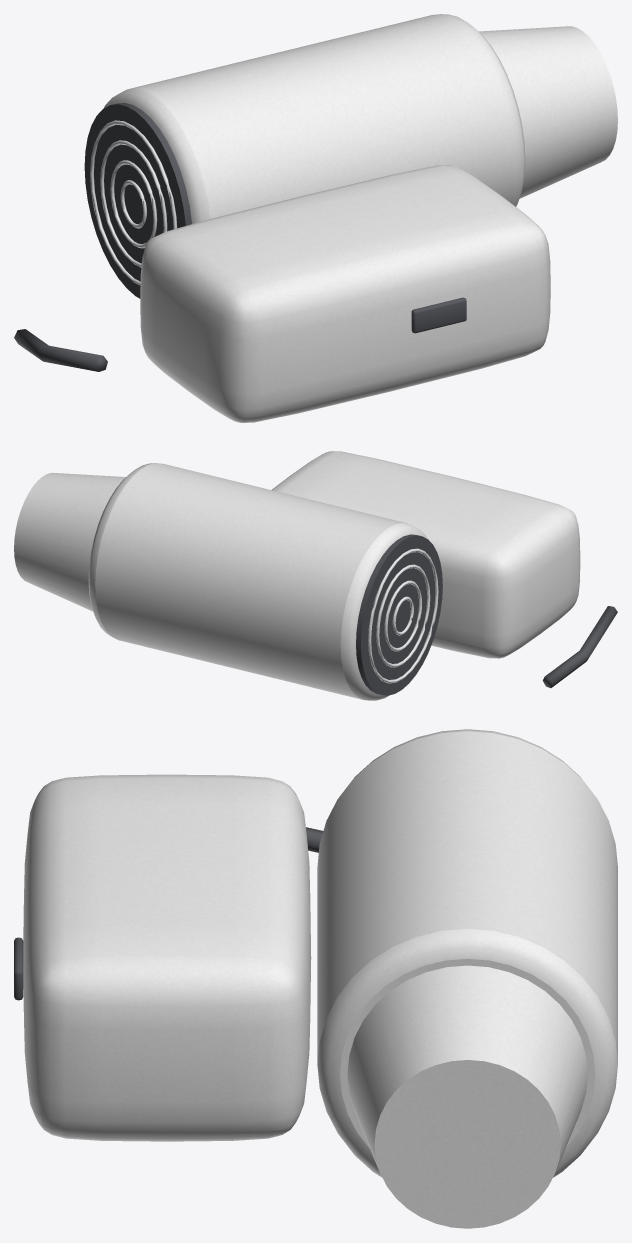
Rendered from hair_dryer.glb.
3 renders of one model, top to bottom at view 1: azimuth 30°, elevation 25°; view 2: azimuth 150°, elevation 25°; view 3: azimuth 270°, elevation 25°, orthographic. The views are drawn at different scales.
Parts seen in each view (by area): view 1: dryer_handle, dryer_barrel, dryer_nozzle, dryer_vent, dryer_cord, dryer_switch, dryer_grille3, dryer_grille2, dryer_grille1; view 2: dryer_barrel, dryer_handle, dryer_nozzle, dryer_vent, dryer_cord, dryer_grille3, dryer_grille2, dryer_grille1; view 3: dryer_handle, dryer_barrel, dryer_nozzle.
Part boxes in pixels (box(x1,y1,x2,y2)): dryer_handle: box(140, 165, 550, 422); dryer_barrel: box(103, 14, 525, 223); dryer_nozzle: box(478, 26, 617, 198); dryer_vent: box(84, 102, 191, 298); dryer_cord: box(14, 329, 107, 371); dryer_switch: box(411, 297, 466, 333); dryer_grille3: box(90, 120, 177, 285); dryer_grille2: box(100, 140, 167, 267); dryer_grille1: box(110, 160, 157, 248); dryer_barrel: box(88, 463, 427, 700); dryer_handle: box(271, 451, 580, 658); dryer_nozzle: box(14, 472, 125, 611); dryer_vent: box(356, 534, 442, 695); dryer_cord: box(542, 606, 617, 687); dryer_grille3: box(368, 548, 438, 683); dryer_grille2: box(376, 564, 430, 667); dryer_grille1: box(384, 580, 421, 651); dryer_handle: box(23, 774, 311, 1141); dryer_barrel: box(317, 729, 617, 1177); dryer_nozzle: box(347, 965, 587, 1228).
Bounding box in the file's own units: 24.96 × 8 × 16.07.
Materials: 3 (1 with a texture image).
